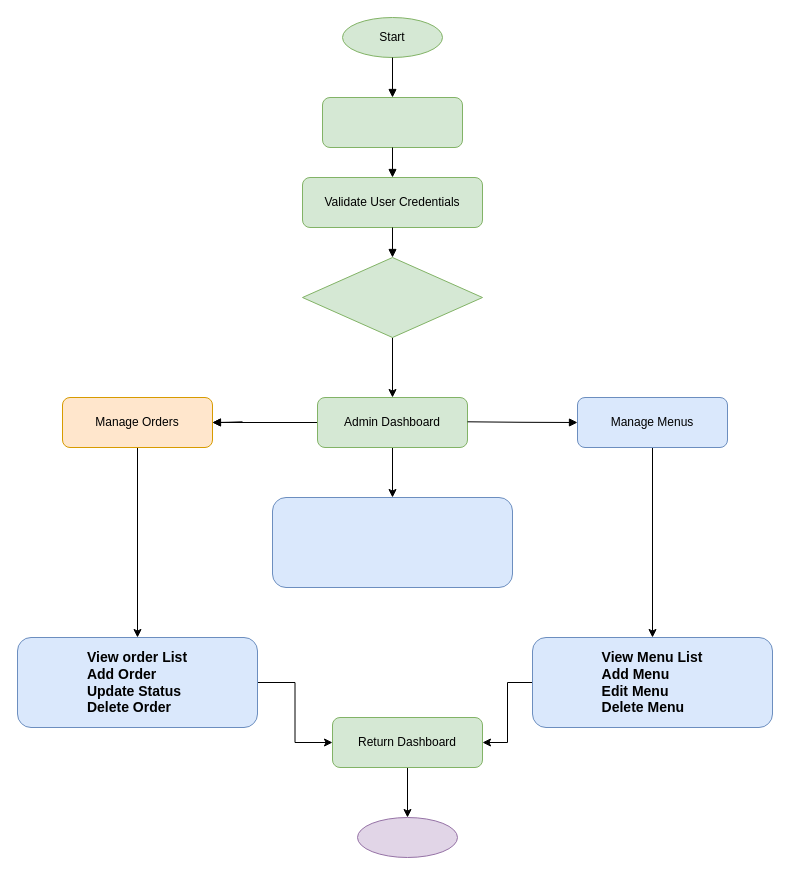
This 790x875 diagram has some shape labels left out. The shapes that lost their labels are listed below. From the top down, each one's centre as x and y in pixels, then its label:
At (x=392, y=122): "Login Page".
At (x=392, y=297): "Admin".
At (x=392, y=542): "Total Pesanan Pesan Pending Pesanan Selesai Total Pendapatan".
At (x=407, y=837): "Logout".
